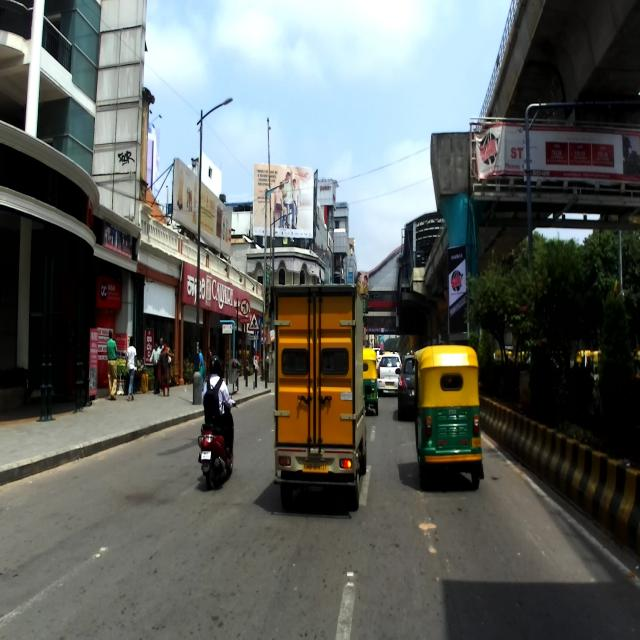autorickshaw: (411, 345, 484, 489)
scooter: (197, 395, 237, 491)
truck: (265, 270, 371, 521)
